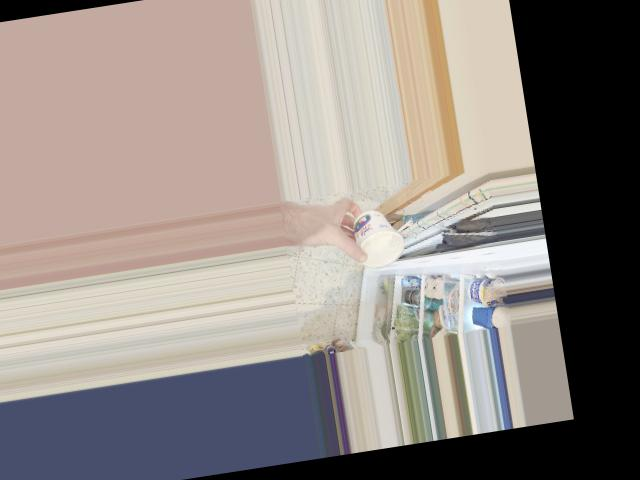cotage: (351, 209, 401, 260)
